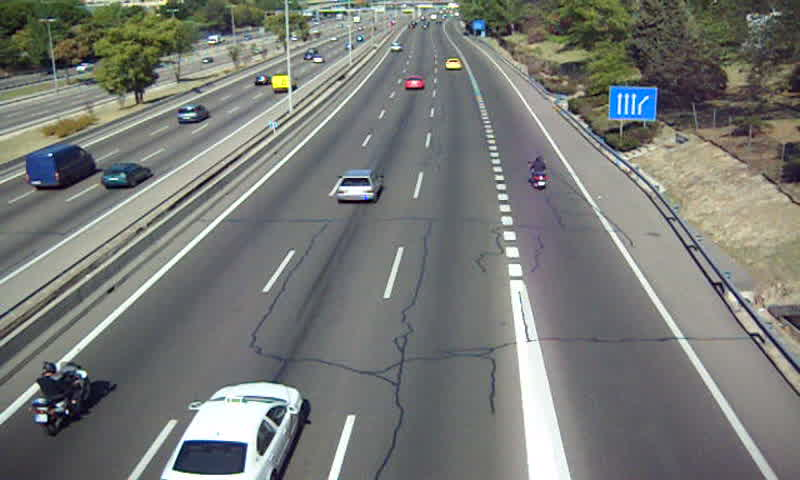car: (160, 383, 300, 480), (334, 170, 383, 202), (405, 74, 423, 93), (445, 59, 462, 70)
motorcycle: (33, 361, 89, 436), (529, 155, 550, 190)
